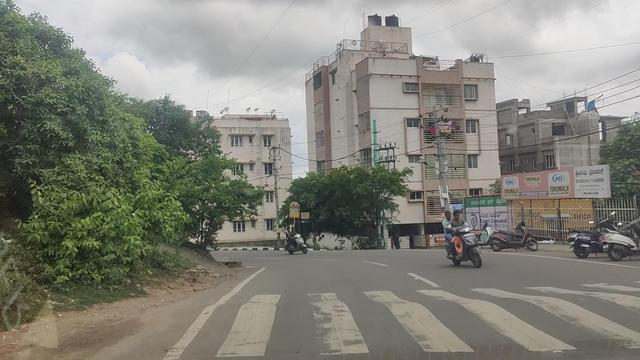LMV: (445, 211, 481, 268)
SpeedBump: (195, 294, 640, 360)
